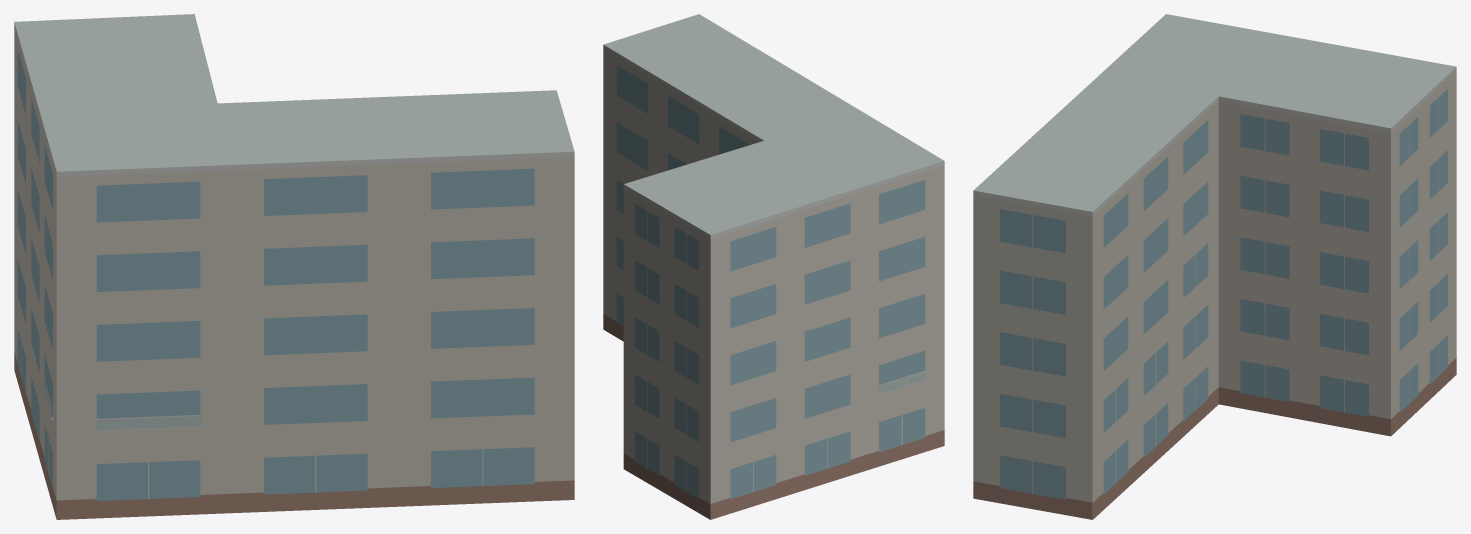
Rendered from survey-upis-32525161.glb.
3 views of the same model, side by side, from view 1: azimuth 30°, elevation 25°; view 2: azimuth 150°, elevation 25°; view 3: azimuth 270°, elevation 25° (orthographic). The views are drawn at different scales.
Parts seen in each view (by area): view 1: survey-upis-32525161.tmp; view 2: survey-upis-32525161.tmp; view 3: survey-upis-32525161.tmp.
Part boxes in pixels (box(x1,y1,x2,y2)): survey-upis-32525161.tmp: box(14, 14, 574, 519); survey-upis-32525161.tmp: box(603, 14, 944, 519); survey-upis-32525161.tmp: box(973, 14, 1456, 519).
Size of the model in its own units: 22.47 by 16.3 by 23.19.
